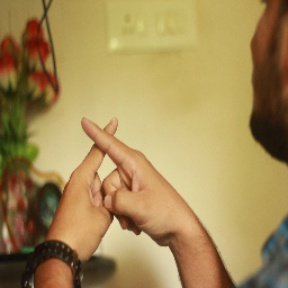X: (53, 103, 160, 208)
